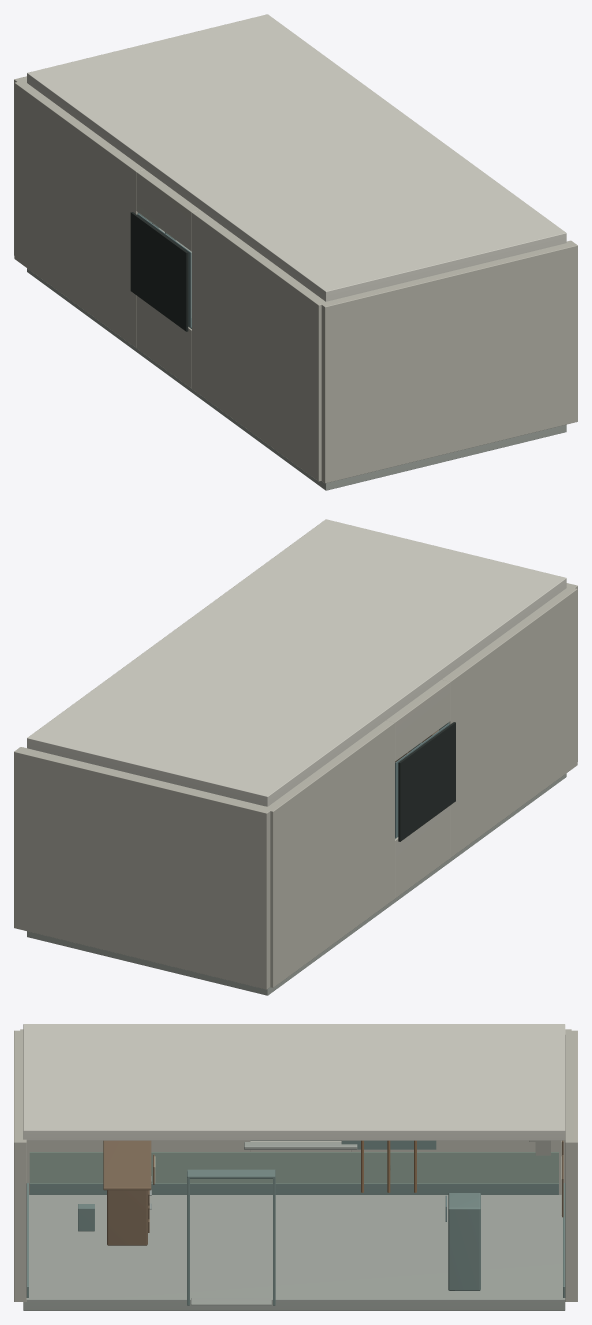
Rendered from F1_finish.glb.
The picture shows the model from 3 angles, top to bottom: view 1: azimuth 30°, elevation 25°; view 2: azimuth 150°, elevation 25°; view 3: azimuth 270°, elevation 25°; orthographic projection. The views are drawn at different scales.
Parts seen in each view (by area): view 1: F1_C2_wall, F1_C2_ceiling, F1_C2_rubber, F1_C2_tile; view 2: F1_C2_wall, F1_C2_ceiling, F1_C2_rubber, F1_C2_tile; view 3: F1_C2_ceiling, F1_C2_tile, F1_C2_paint, F1_C2_metal, F1_C2_wall, F1_C2_wood, F1_C2_rust.
Boxes of the visible parts, bbox=[...] form: F1_C2_wall: bbox=[14, 76, 577, 483]; F1_C2_ceiling: bbox=[27, 14, 566, 301]; F1_C2_rubber: bbox=[130, 212, 188, 331]; F1_C2_tile: bbox=[27, 228, 566, 490]; F1_C2_wall: bbox=[14, 583, 577, 989]; F1_C2_ceiling: bbox=[27, 519, 566, 806]; F1_C2_rubber: bbox=[398, 722, 455, 841]; F1_C2_tile: bbox=[27, 773, 566, 995]; F1_C2_ceiling: bbox=[23, 1024, 565, 1140]; F1_C2_tile: bbox=[23, 1141, 565, 1310]; F1_C2_paint: bbox=[29, 1152, 558, 1183]; F1_C2_metal: bbox=[26, 1140, 565, 1305]; F1_C2_wall: bbox=[14, 1029, 577, 1301]; F1_C2_wood: bbox=[103, 1140, 563, 1245]; F1_C2_rust: bbox=[361, 1140, 416, 1192].
Size of the model in its own units: 4.47 by 3.16 by 8.95.
